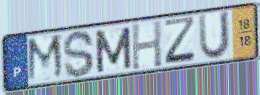H: (130, 19, 164, 72)
M: (26, 32, 67, 85), (93, 25, 134, 75)
S: (62, 29, 96, 80)
U: (196, 9, 232, 62)
Z: (163, 14, 199, 66)
